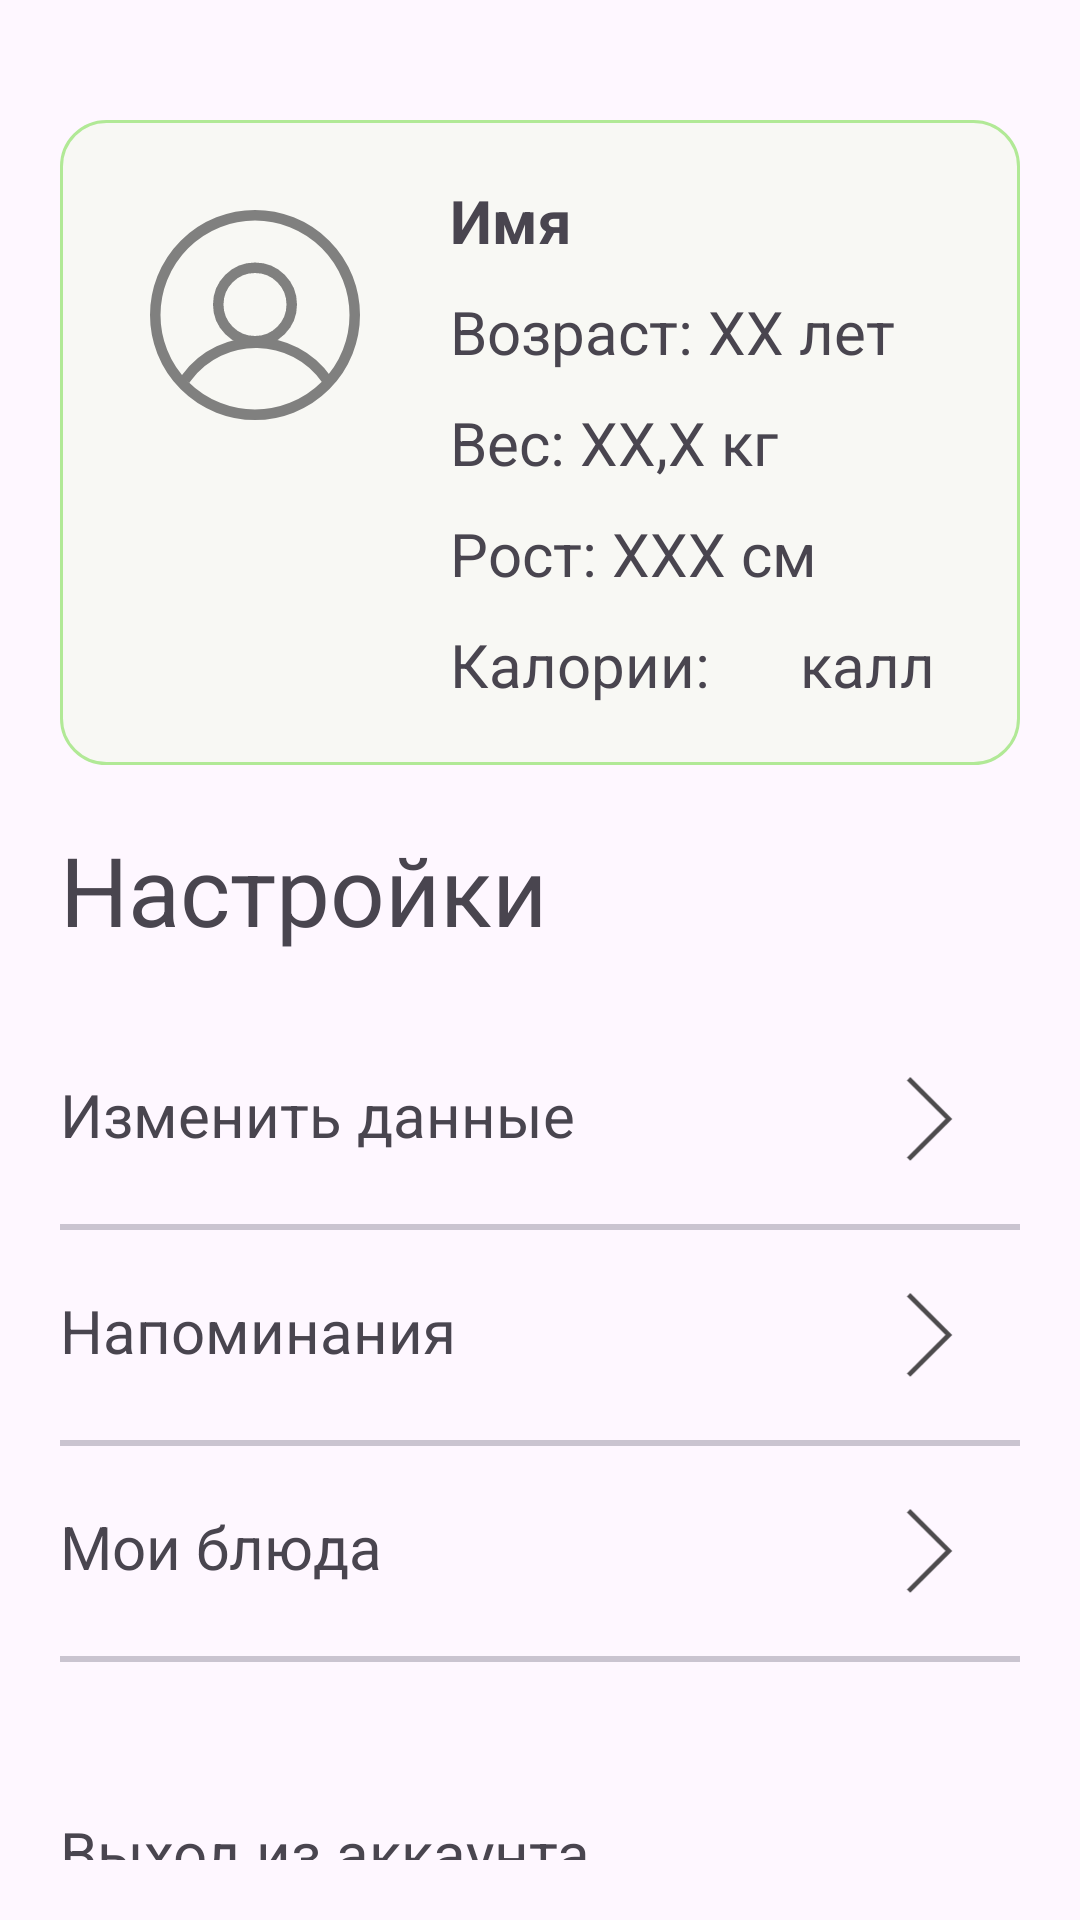

Point at icon controls on the screen. Image size 1080px x 1920px, points as point (x, y).
arrow: point (929, 1119), point (929, 1335), point (929, 1551)
user: point (255, 315)
